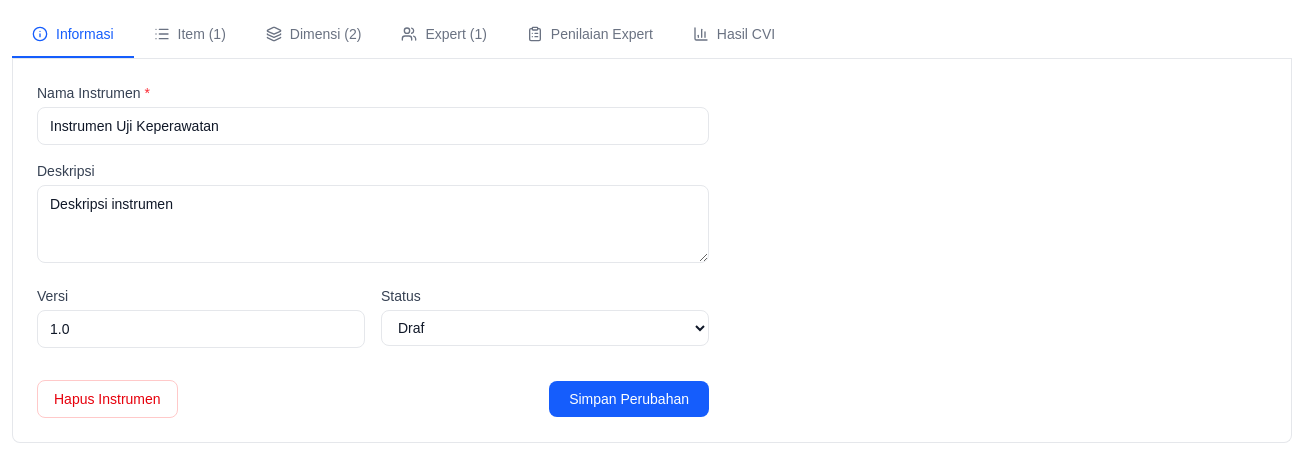
InstrumentDetailTabs › harus berpindah ke tab Item saat diklik
Click the button "Item (1)": x=190, y=35 [134, 12, 246, 58]
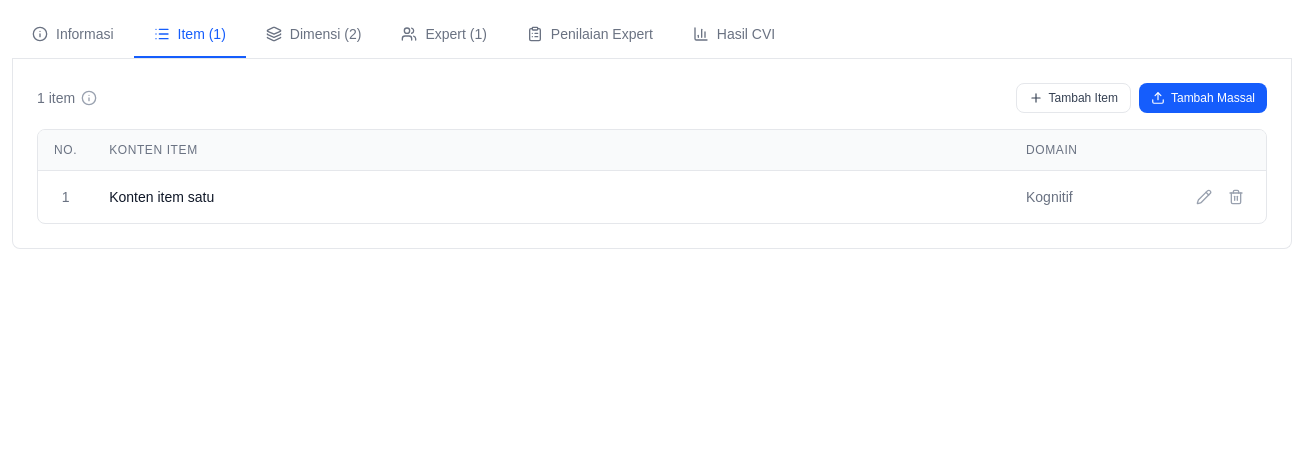
Now the text "Konten item satu" is shown, box [93, 170, 1010, 223]
